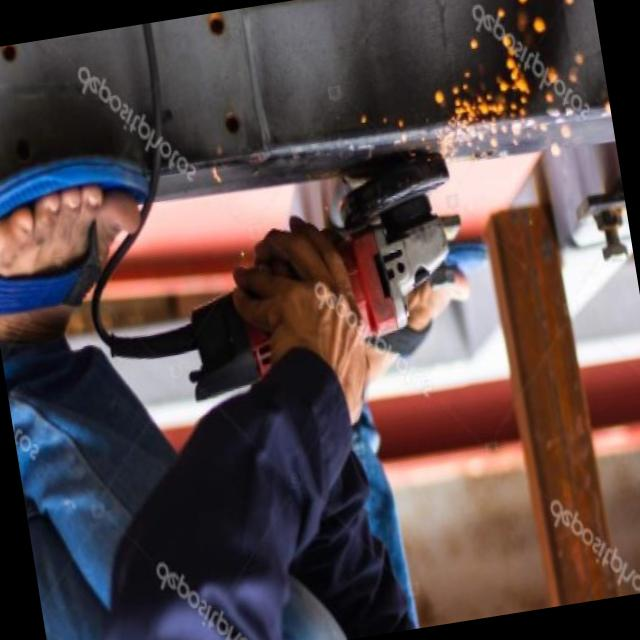not-gloved: (220, 209, 384, 445)
